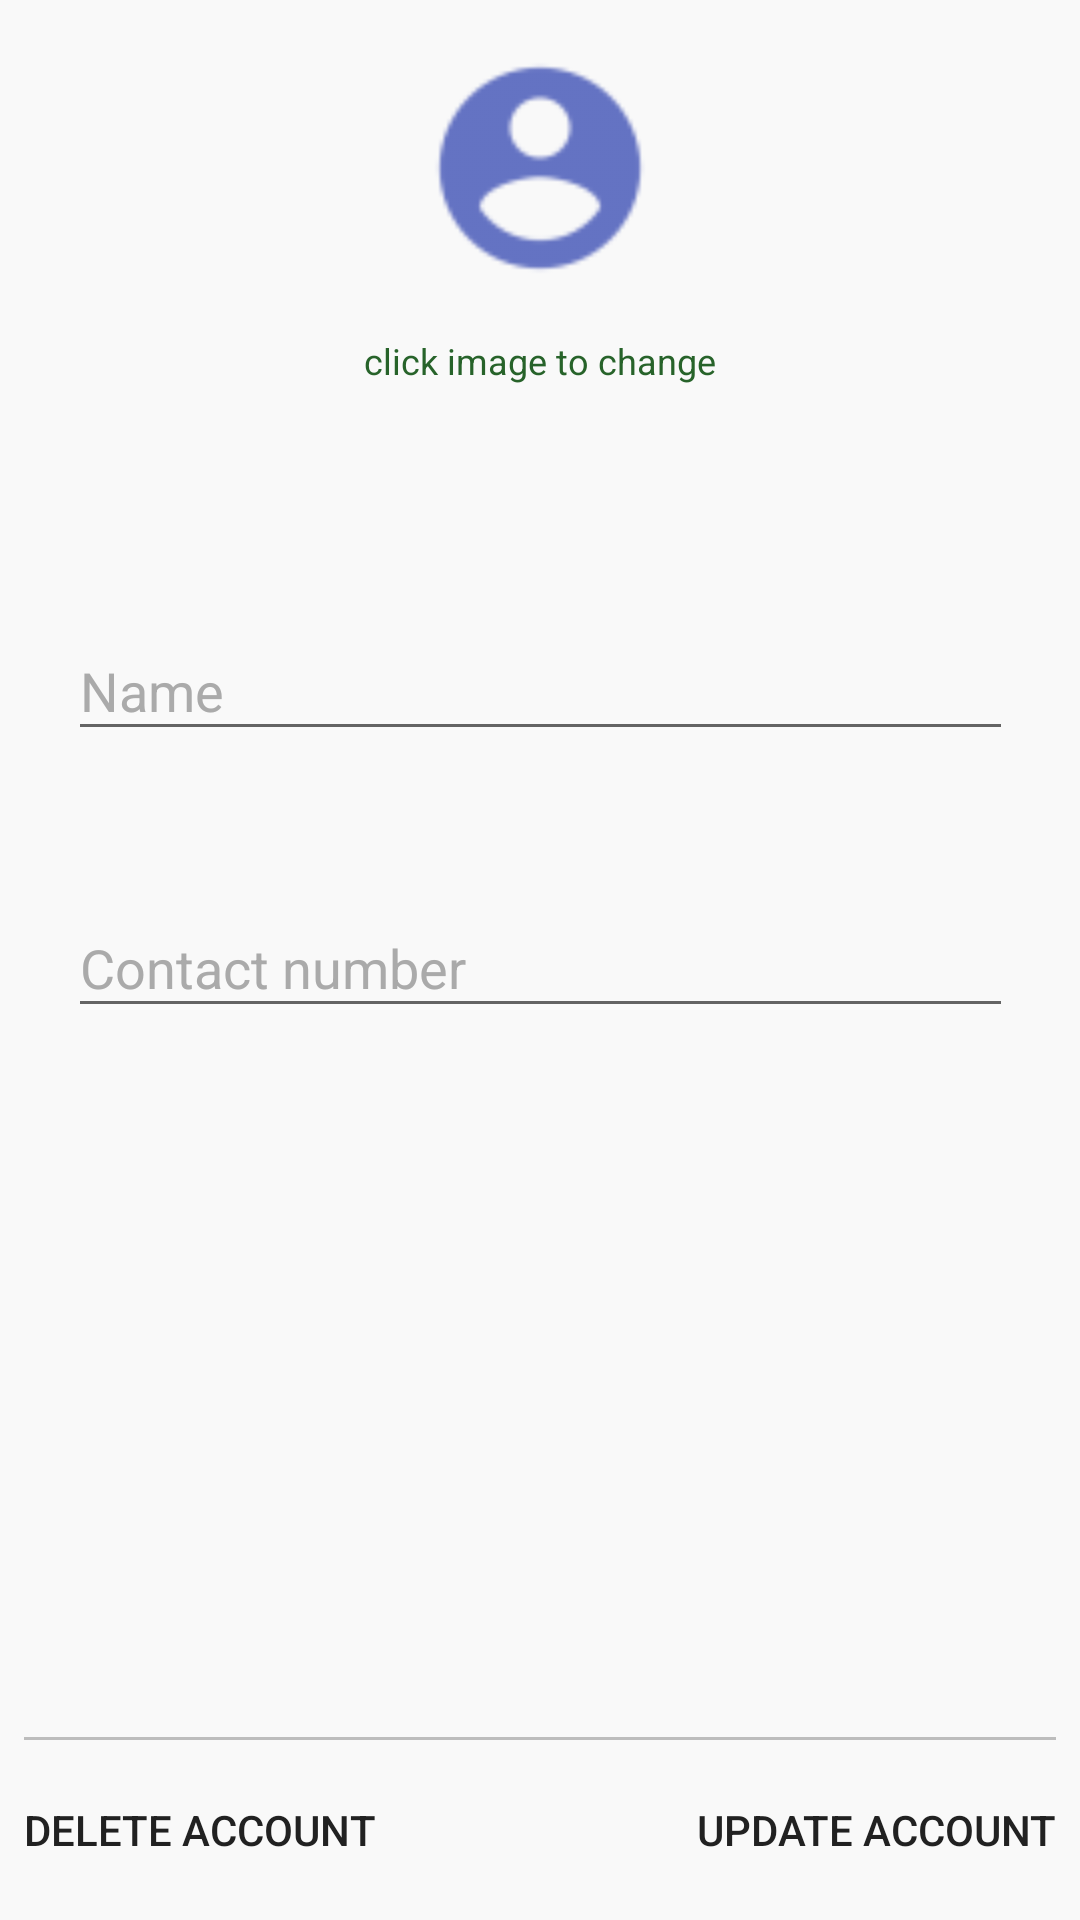

Point at icon controls on the screen. Image size 1080 × 1920, points as [x,y].
account: [540,168]
